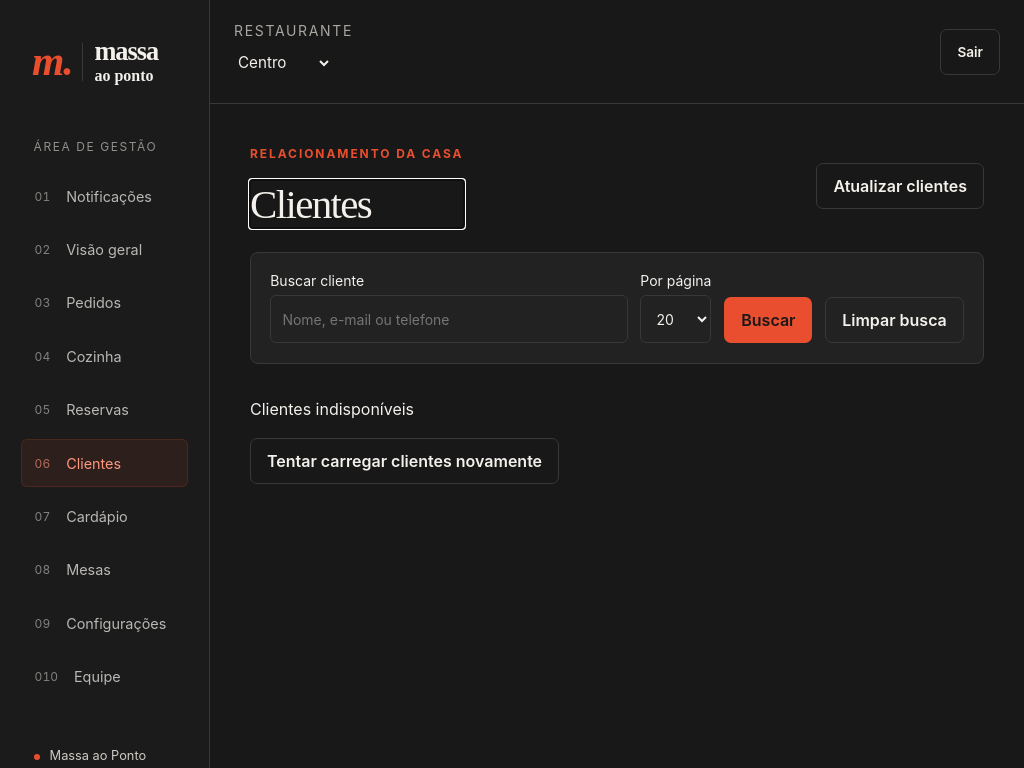
it: Customers UI › shows list errors and retries
Check: the message reads "Clientes indisponíveis", box [250,399,414,419]
Click the button "Tentar carregar clientes novamente" at (405, 461), box [250,438,559,484]
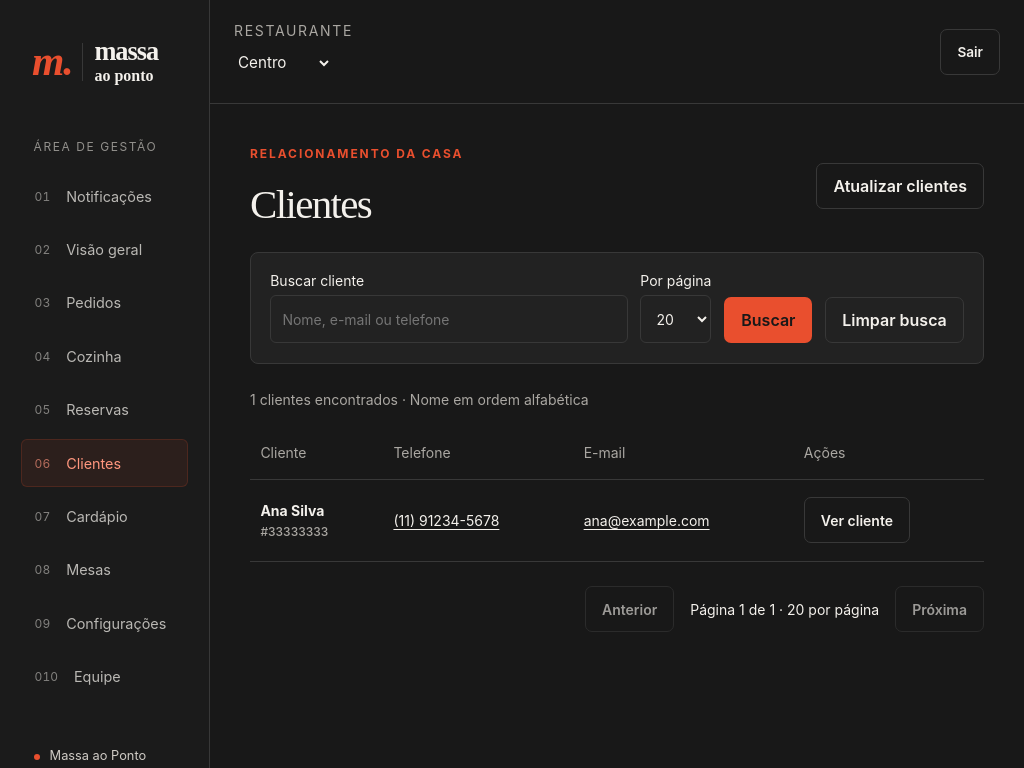
Check: the table named "Clientes do restaurante" is shown, box [250,427,984,562]
